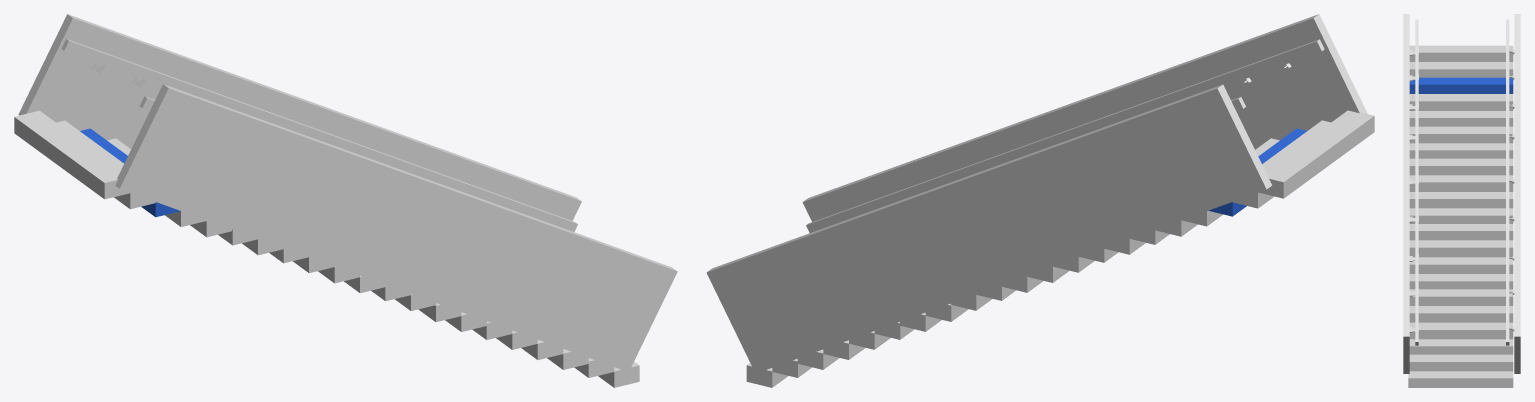
File: stairs.fbx
3 renders of one model, left to right at view 1: azimuth 30°, elevation 25°; view 2: azimuth 150°, elevation 25°; view 3: azimuth 270°, elevation 25°, orthographic. The views are drawn at different scales.
Visible parts, largest first — view 1: Cube.044, Cube.021, Cube.023, Cube.018, Cube.017, Cube.019, Cube; view 2: Cube.021, Cube.044, Cube.043, Cube.018, Cube.017, Cube.019, Cube; view 3: Cube.021, Cube.044, Cube.001, Cube, Cube.009, Cube.015, Cube.010, Cube.002, Cube.007, Cube.013, Cube.014, Cube.019 (+13 smaller).
Part boxes in pixels (x1=…): Cube.044: x1=115, y1=84, x2=677, y2=372; Cube.021: x1=18, y1=14, x2=581, y2=220; Cube.023: x1=61, y1=39, x2=577, y2=231; Cube.018: x1=14, y1=110, x2=129, y2=199; Cube.017: x1=56, y1=120, x2=155, y2=209; Cube.019: x1=80, y1=128, x2=180, y2=217; Cube: x1=598, y1=361, x2=639, y2=387; Cube.021: x1=706, y1=84, x2=1272, y2=373; Cube.044: x1=802, y1=14, x2=1367, y2=221; Cube.043: x1=806, y1=39, x2=1324, y2=232; Cube.018: x1=1259, y1=110, x2=1374, y2=198; Cube.017: x1=1233, y1=120, x2=1330, y2=208; Cube.019: x1=1208, y1=128, x2=1306, y2=216; Cube: x1=746, y1=363, x2=788, y2=387; Cube.021: x1=1514, y1=14, x2=1520, y2=373; Cube.044: x1=1403, y1=14, x2=1409, y2=373; Cube.001: x1=1409, y1=354, x2=1513, y2=371; Cube: x1=1408, y1=371, x2=1513, y2=387; Cube.009: x1=1409, y1=158, x2=1513, y2=175; Cube.015: x1=1409, y1=240, x2=1513, y2=257; Cube.010: x1=1409, y1=126, x2=1513, y2=143; Cube.002: x1=1409, y1=322, x2=1513, y2=339; Cube.007: x1=1409, y1=306, x2=1513, y2=322; Cube.013: x1=1409, y1=192, x2=1513, y2=208; Cube.014: x1=1409, y1=224, x2=1513, y2=240; Cube.019: x1=1409, y1=77, x2=1513, y2=93.
Size of the model in its own units: 1161 by 805 by 358.
